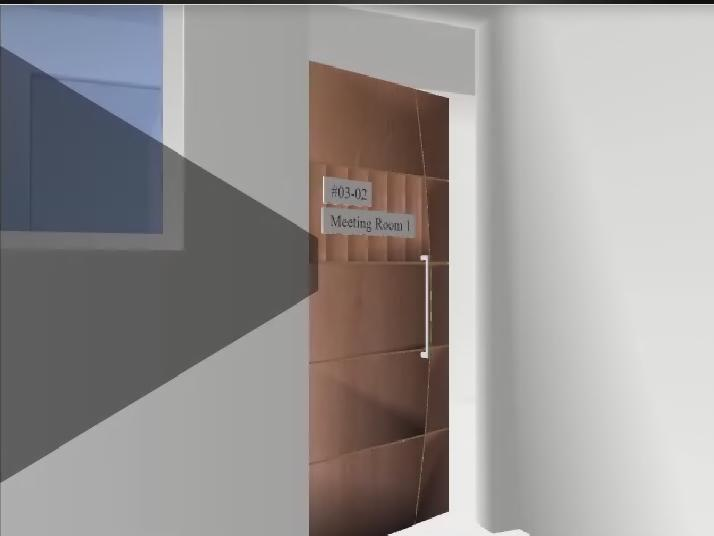door: (309, 61, 449, 536)
